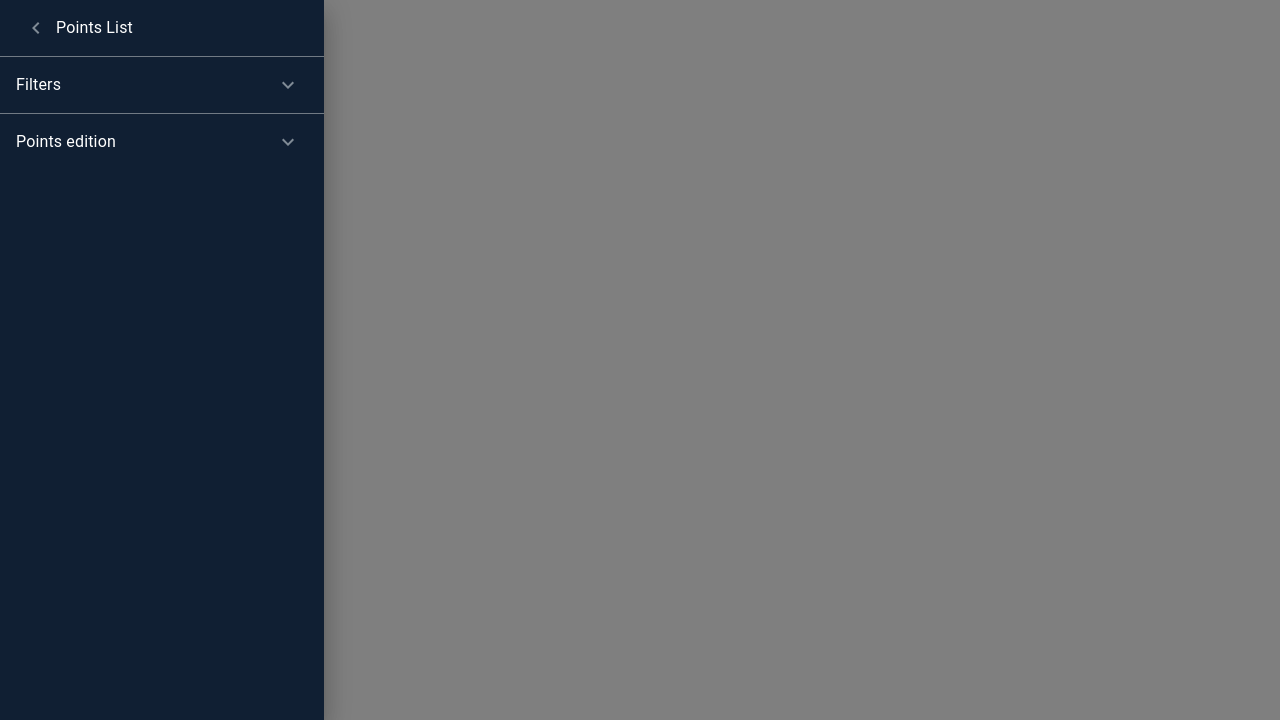
check pointsView visibility subbmenu opens correctly
The width and height of the screenshot is (1280, 720).
Click the button with test id "visibility": (66, 142) [0, 114, 324, 170]
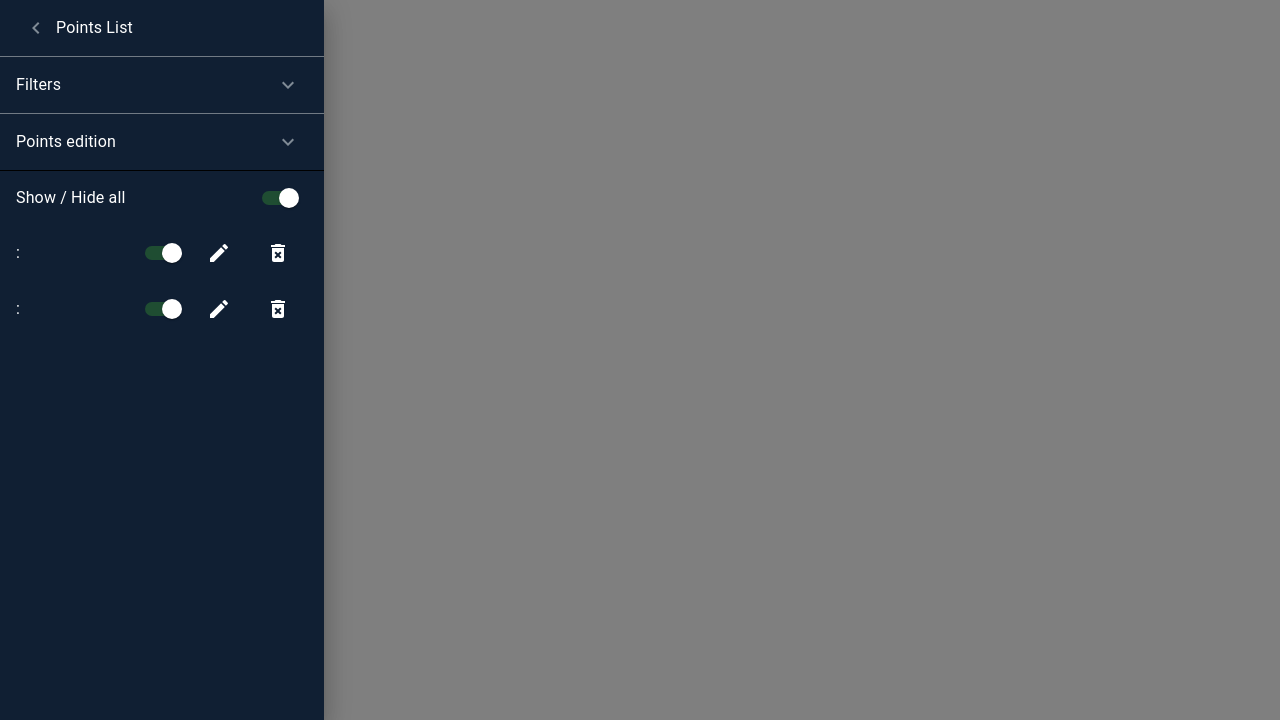
Result: the text "Show / Hide all" is shown at [16, 188, 126, 207]
